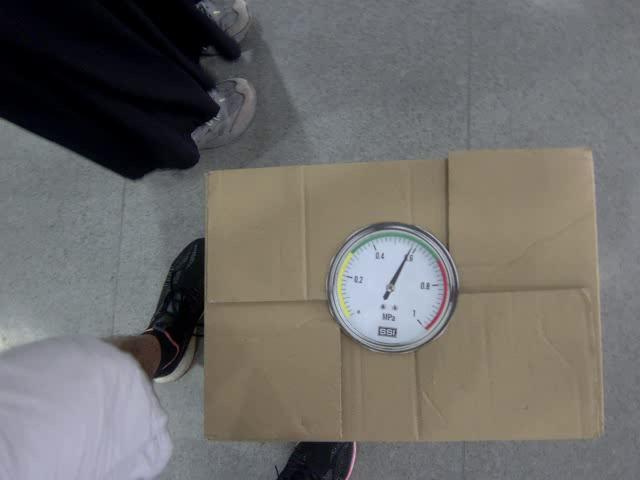Dashboard: (326, 222, 459, 354)
ssi: (374, 322, 399, 337)
